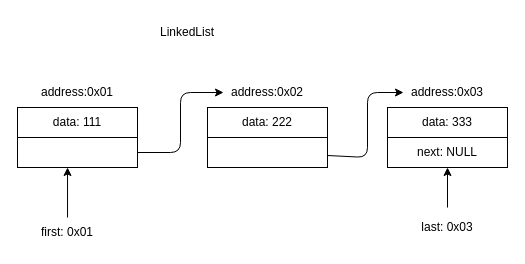
This 525x264 diagram has some shape labels left out. Here are the shapes that lost their labels. From the top down, the centre of each, then its label:
(77,152): next: 0x02
(267,152): next: 0x03
